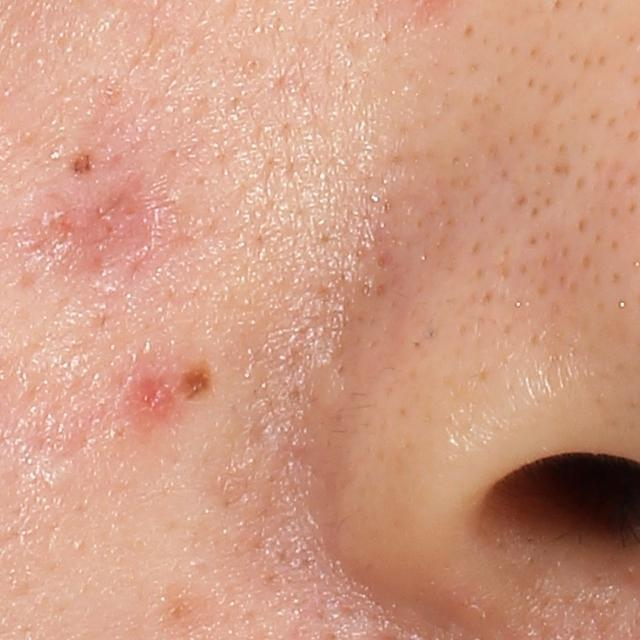nevus: (180, 365, 212, 397), (66, 151, 94, 180)
